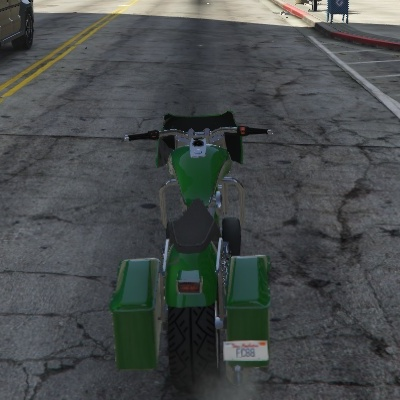off: (175, 267, 206, 300)
